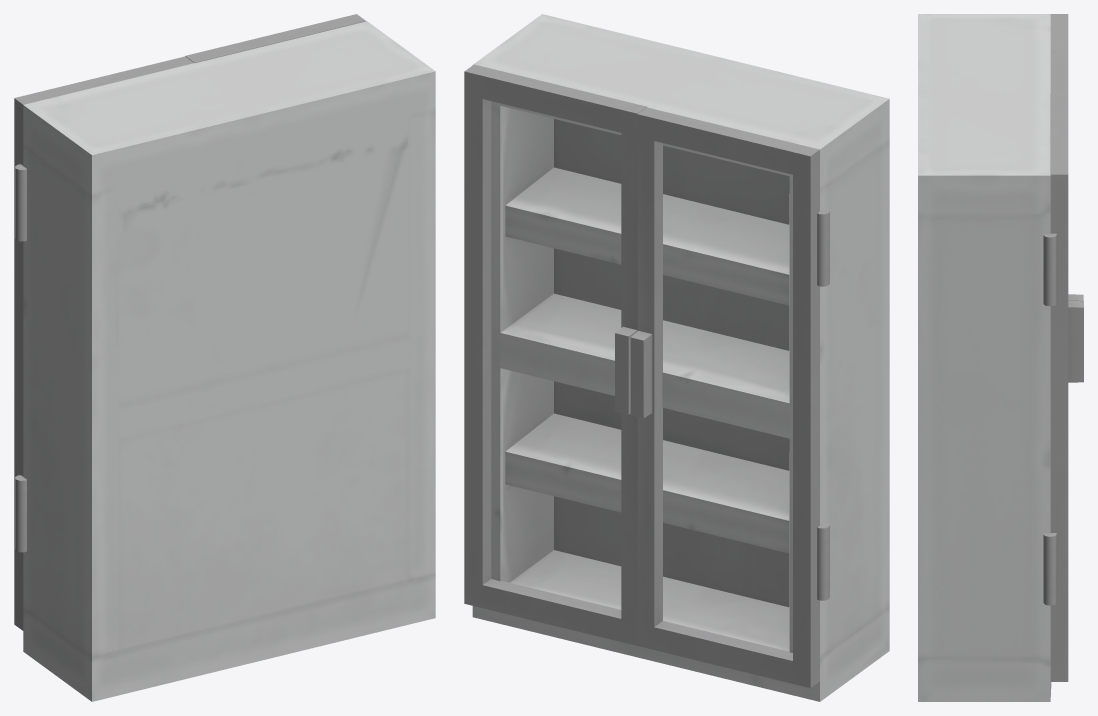
Rendered from Pfb_Indoors_Study_Shelf_JLAB04.fbx.
The picture shows the model from 3 angles, left to right: view 1: azimuth 30°, elevation 25°; view 2: azimuth 150°, elevation 25°; view 3: azimuth 270°, elevation 25°; orthographic projection. The views are drawn at different scales.
Visible parts, largest first — view 1: Mat_Indoors_Study_01_2_JLAB 1, MAT_Shop_Refridge_01_JLAB; view 2: Mat_Indoors_Study_01_2_JLAB 1, MAT_Shop_Refridge_01_JLAB; view 3: Mat_Indoors_Study_01_2_JLAB 1, MAT_Shop_Refridge_01_JLAB.
Boxes of the visible parts, x1,y1,x2,y2 form: Mat_Indoors_Study_01_2_JLAB 1: (23, 21, 435, 701); MAT_Shop_Refridge_01_JLAB: (14, 14, 365, 630); Mat_Indoors_Study_01_2_JLAB 1: (472, 14, 889, 701); MAT_Shop_Refridge_01_JLAB: (464, 64, 829, 687); Mat_Indoors_Study_01_2_JLAB 1: (918, 14, 1051, 701); MAT_Shop_Refridge_01_JLAB: (1043, 14, 1083, 681).
Size of the model in its own units: 1.84 by 2.69 by 0.7657.
2 materials, 2 textured.
